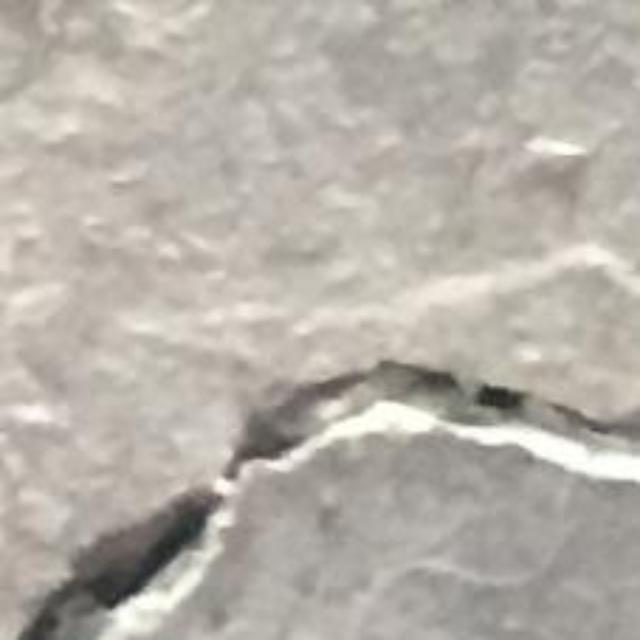crack: (17, 361, 639, 639)
